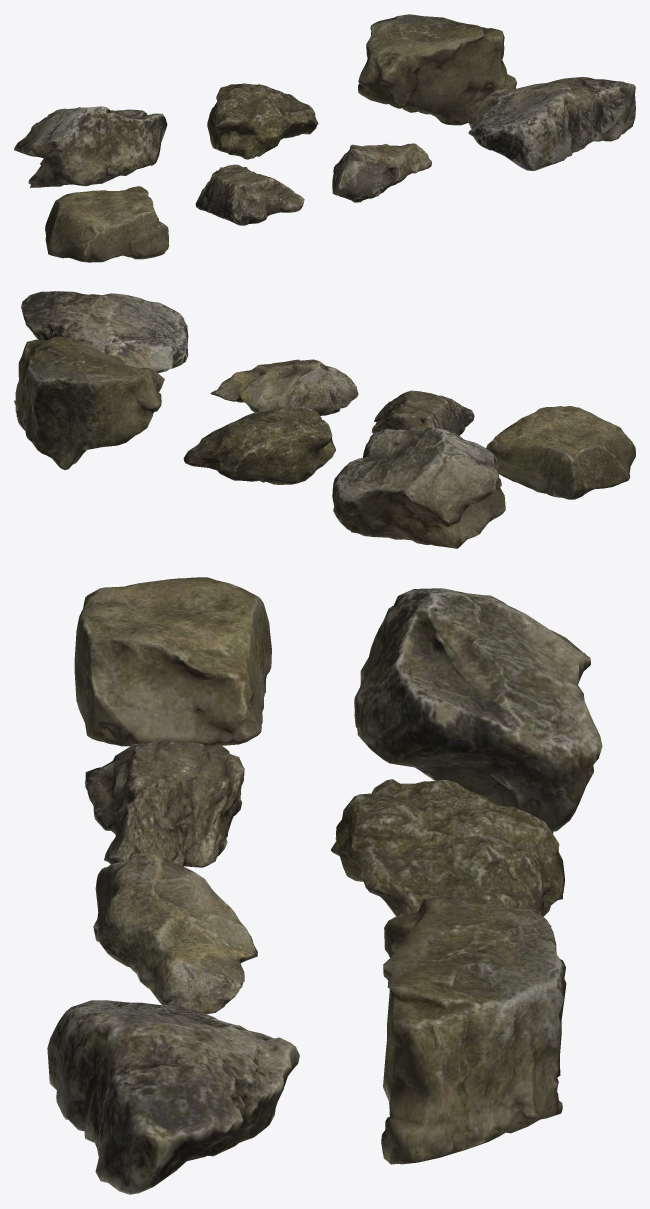
Rendered from rock_moss_set_02_1k_md.glb.
3 renders of one model, top to bottom at view 1: azimuth 30°, elevation 25°; view 2: azimuth 150°, elevation 25°; view 3: azimuth 270°, elevation 25°, orthographic. The views are drawn at different scales.
Parts seen in each view (by area): view 1: rock_moss_set_02_rock13, rock_moss_set_02_rock10, rock_moss_set_02_rock11, rock_moss_set_02_rock07, rock_moss_set_02_rock12, rock_moss_set_02_rock08, rock_moss_set_02_rock09; view 2: rock_moss_set_02_rock11, rock_moss_set_02_rock13, rock_moss_set_02_rock07, rock_moss_set_02_rock10, rock_moss_set_02_rock12, rock_moss_set_02_rock09, rock_moss_set_02_rock08; view 3: rock_moss_set_02_rock13, rock_moss_set_02_rock11, rock_moss_set_02_rock10, rock_moss_set_02_rock07, rock_moss_set_02_rock12, rock_moss_set_02_rock09, rock_moss_set_02_rock08.
Part boxes in pixels (x1,y1,x2,y2): rock_moss_set_02_rock13: (358, 14, 516, 125); rock_moss_set_02_rock10: (468, 77, 635, 170); rock_moss_set_02_rock11: (14, 106, 167, 187); rock_moss_set_02_rock07: (45, 186, 169, 262); rock_moss_set_02_rock12: (207, 83, 318, 159); rock_moss_set_02_rock08: (195, 164, 304, 225); rock_moss_set_02_rock09: (332, 143, 431, 202); rock_moss_set_02_rock11: (332, 427, 505, 548); rock_moss_set_02_rock13: (14, 336, 164, 470); rock_moss_set_02_rock07: (486, 406, 635, 499); rock_moss_set_02_rock10: (21, 291, 188, 373); rock_moss_set_02_rock12: (183, 406, 335, 484); rock_moss_set_02_rock09: (210, 359, 358, 415); rock_moss_set_02_rock08: (372, 390, 474, 435); rock_moss_set_02_rock13: (381, 895, 566, 1164); rock_moss_set_02_rock11: (354, 588, 602, 833); rock_moss_set_02_rock10: (47, 1000, 299, 1194); rock_moss_set_02_rock07: (74, 577, 271, 746); rock_moss_set_02_rock12: (331, 779, 564, 926); rock_moss_set_02_rock09: (93, 851, 257, 1013); rock_moss_set_02_rock08: (85, 741, 244, 867).
Size of the model in its own units: 8.28 by 1.37 by 3.41.
1 material, 1 textured.
